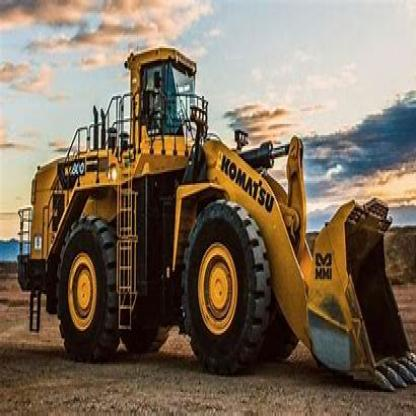bull_dozer/loader/grader: (15, 34, 415, 400)
